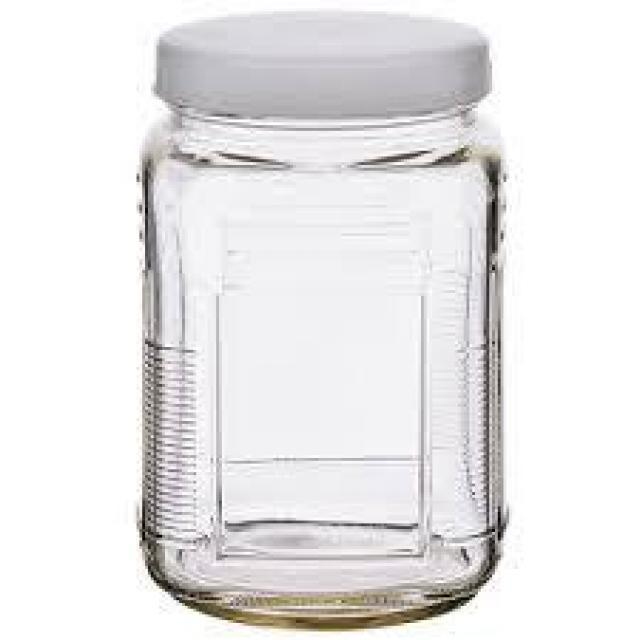glass: (135, 7, 510, 630)
